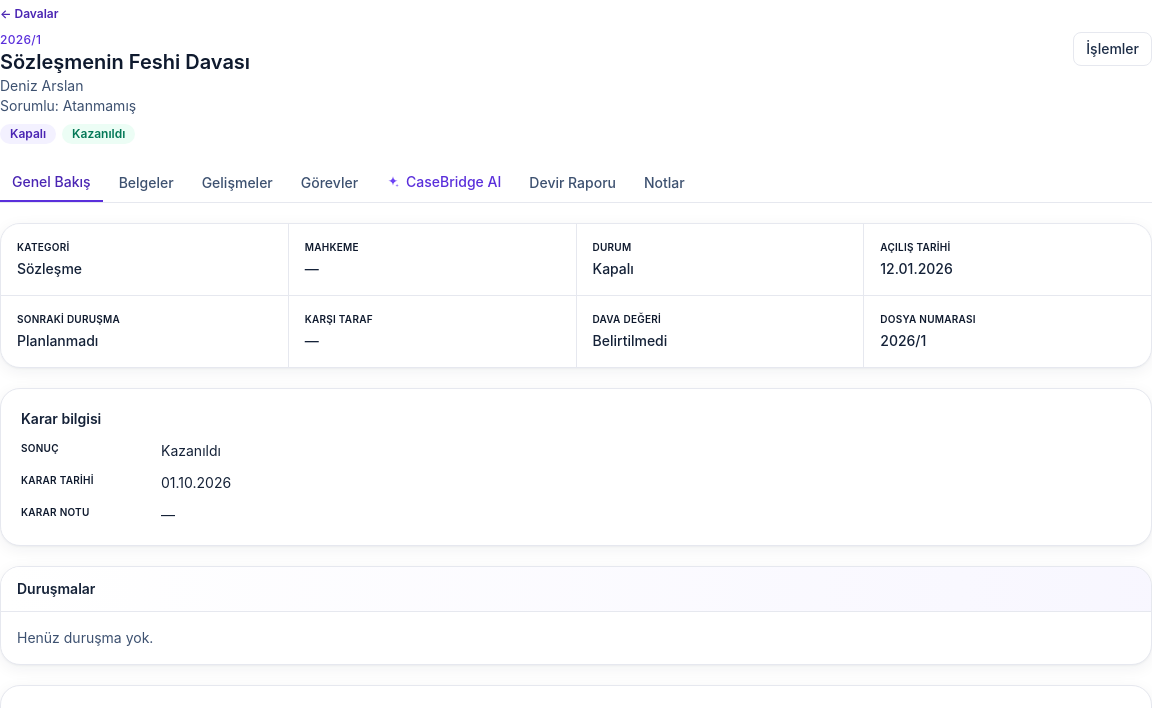
Test case: Yeniden aç › shows the server's message when reopening fails
The width and height of the screenshot is (1152, 708).
Expected: the heading "Sözleşmenin Feshi Davası" is shown, [0, 48, 250, 76]
Click the button "İşlemler" at (1113, 49), box [1073, 32, 1151, 66]
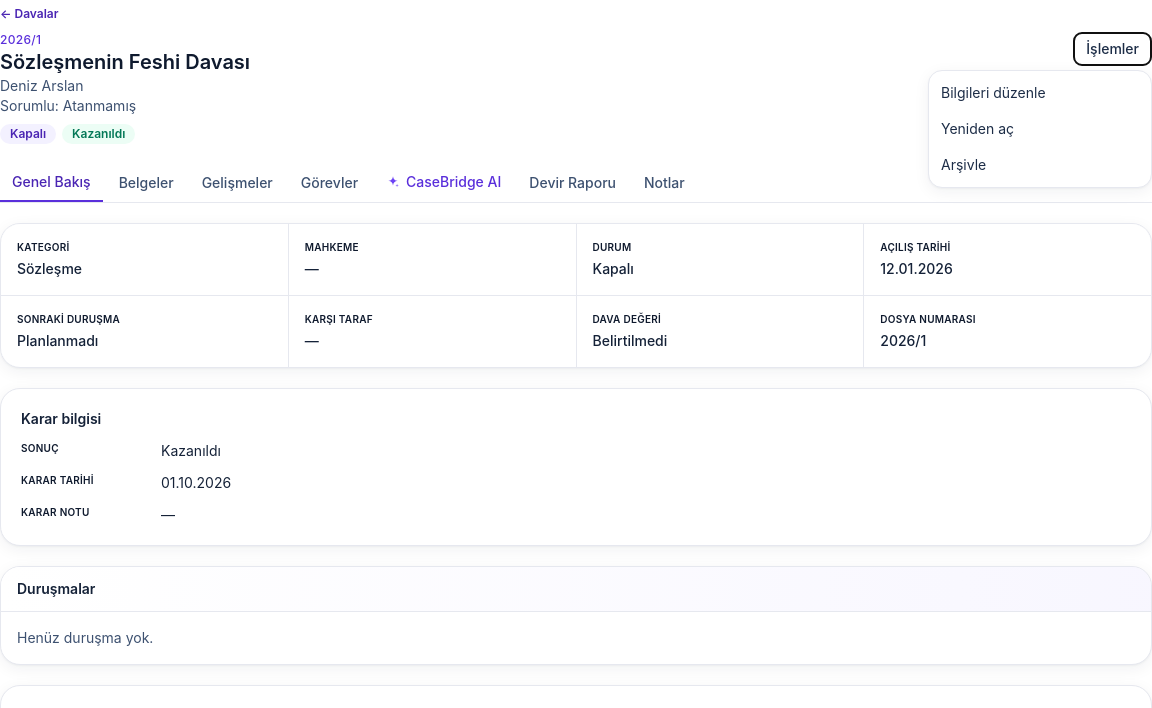
Click the menu item "Yeniden aç" at (1040, 129), box [929, 111, 1151, 147]
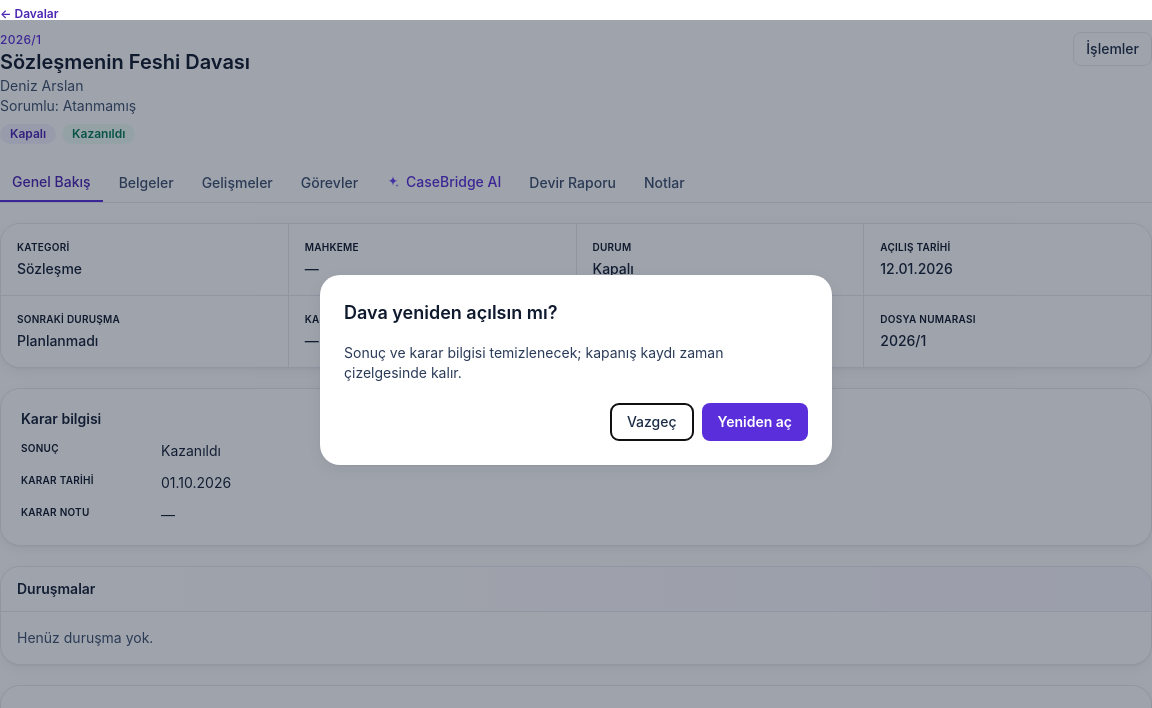
Click the button "Yeniden aç" at (755, 422), box [702, 403, 808, 441]
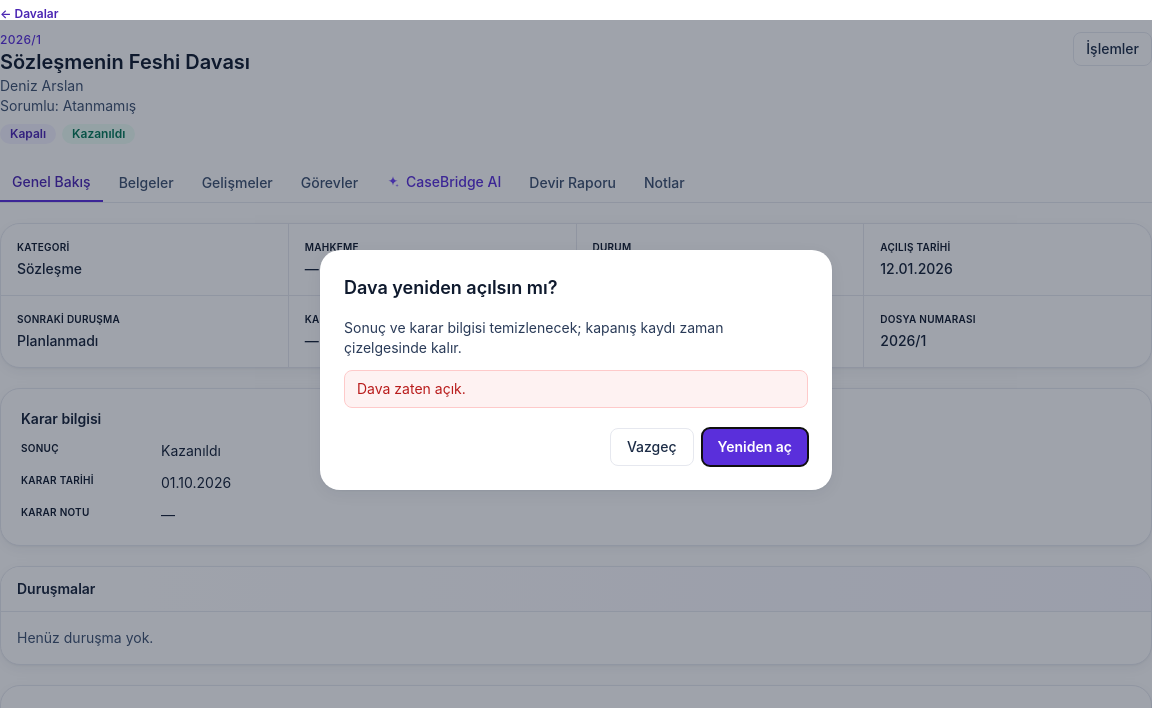
Expected: the dialog is shown, [320, 250, 832, 490]
Expected: the message reads "Dava zaten açık.", [357, 380, 466, 397]
